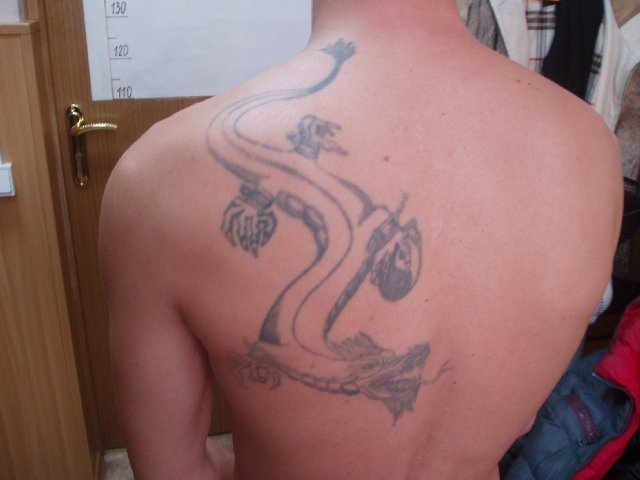tatu6_drakon: (176, 10, 432, 451)
